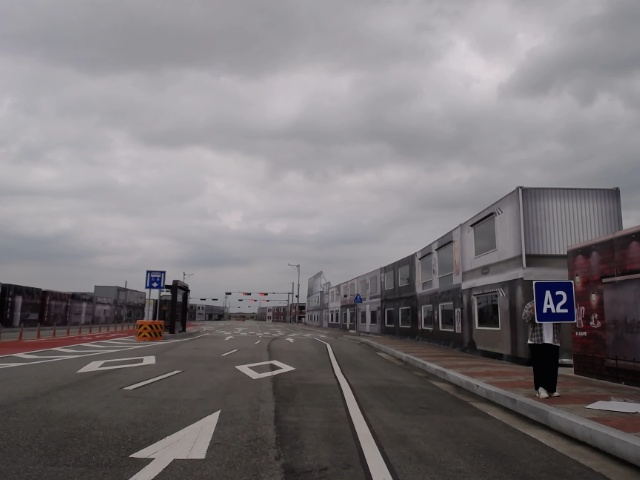delivery_a2: (533, 281, 576, 324)
